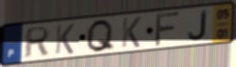F: (153, 10, 183, 48)
J: (187, 9, 209, 42)
K: (53, 22, 76, 56), (120, 16, 143, 49)
Q: (84, 18, 116, 54)
R: (22, 25, 52, 60)
